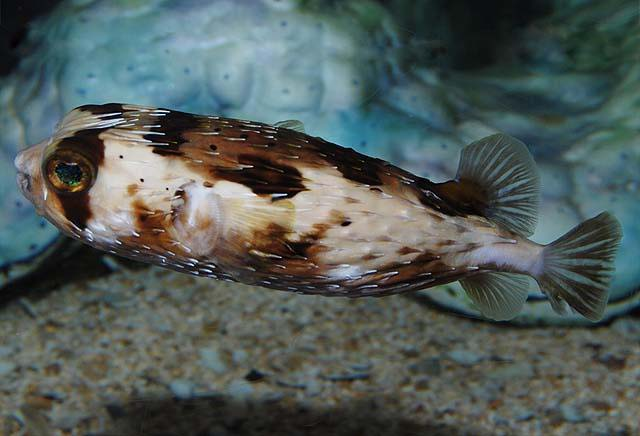Diodon_holocanthus: (8, 85, 625, 340)
